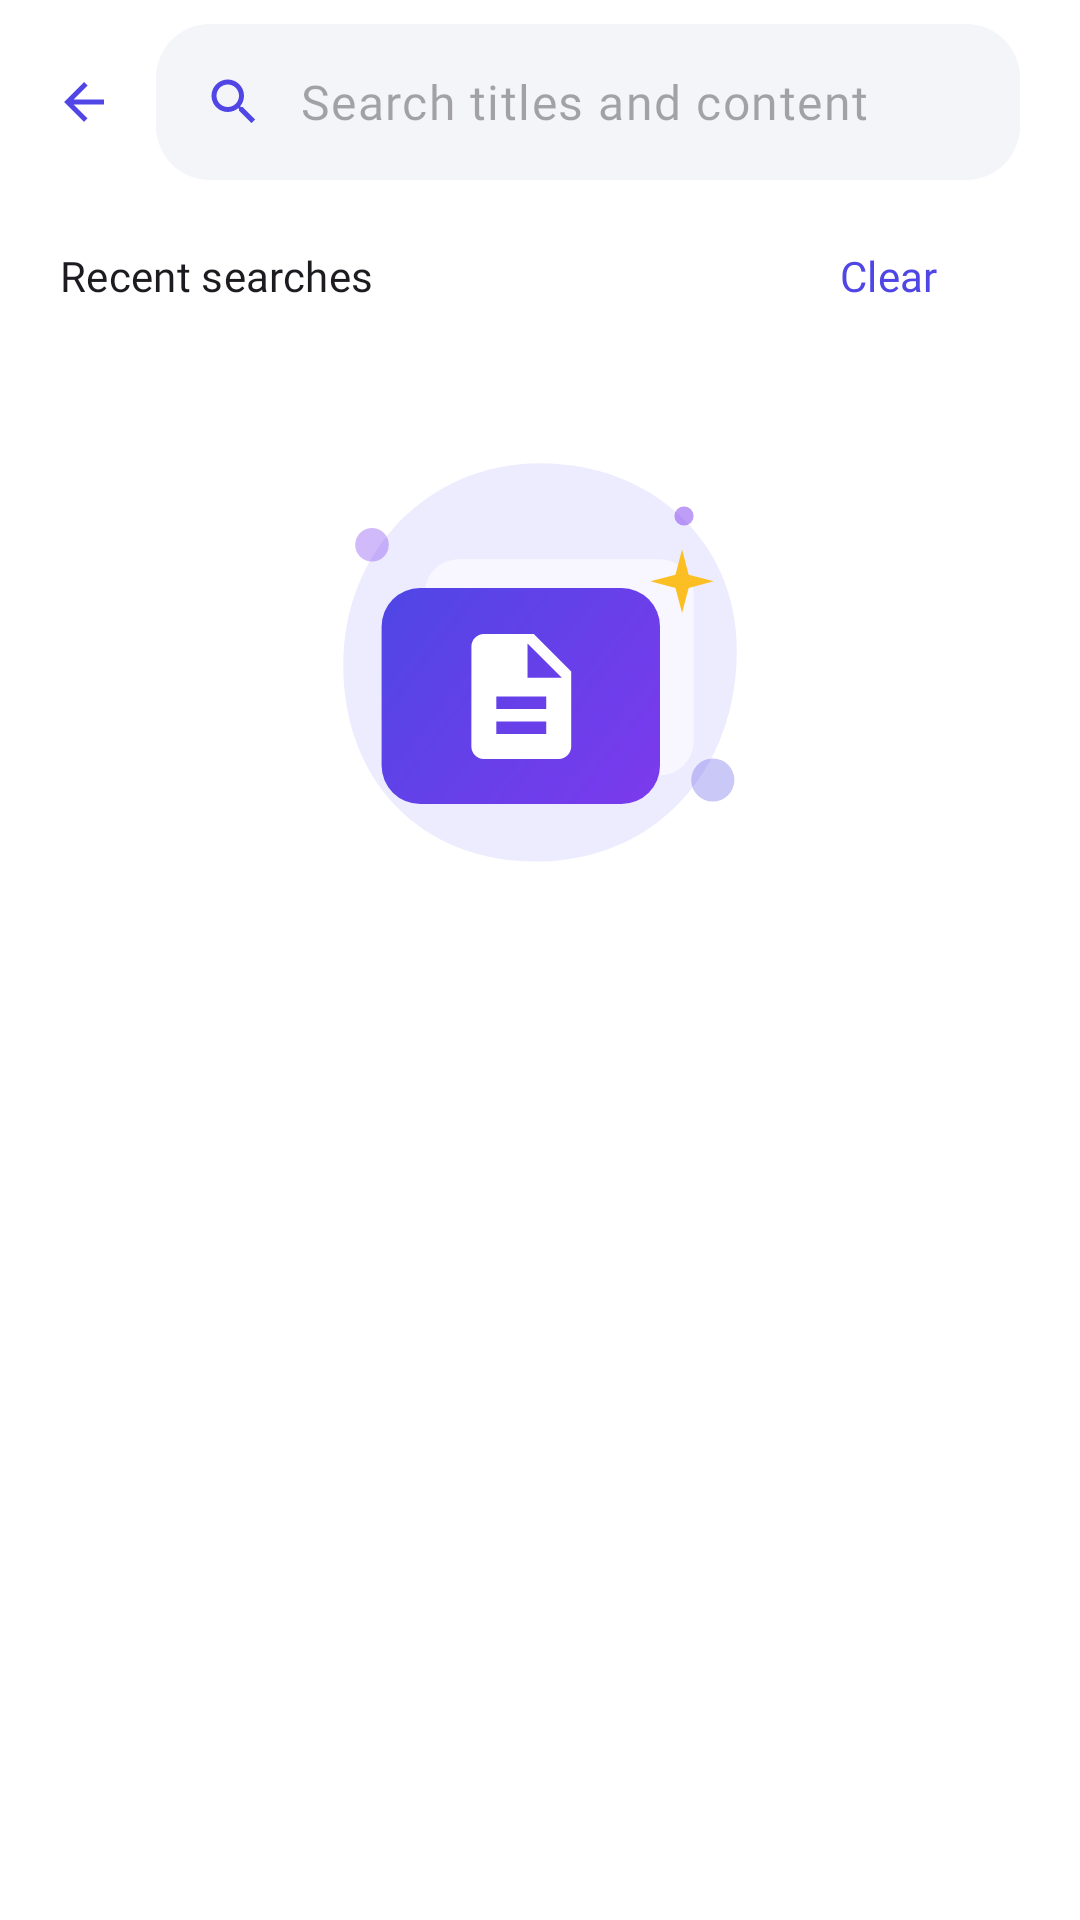

Icons on this 1080*1920 Android screen, each with its box as (x1, y1, x2, y2):
Back: (64, 82, 104, 122)
